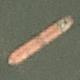ship: (0, 0, 34, 31)
